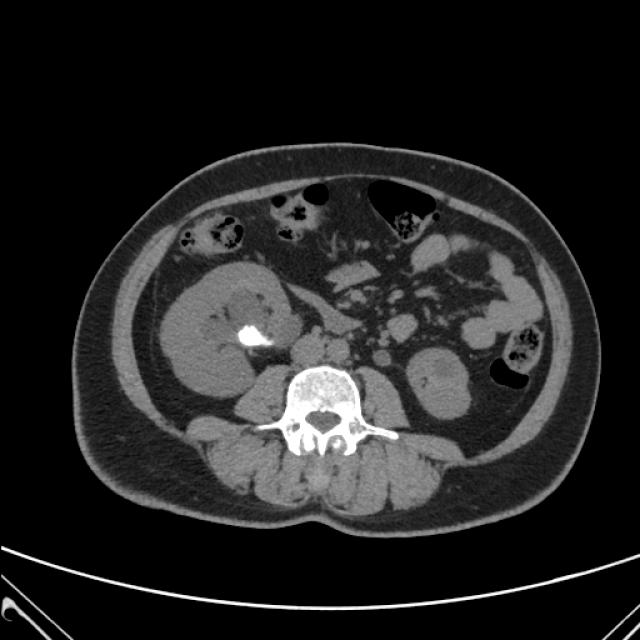kidney: (161, 262, 298, 396), (406, 344, 472, 420)
stone: (237, 325, 275, 348)
